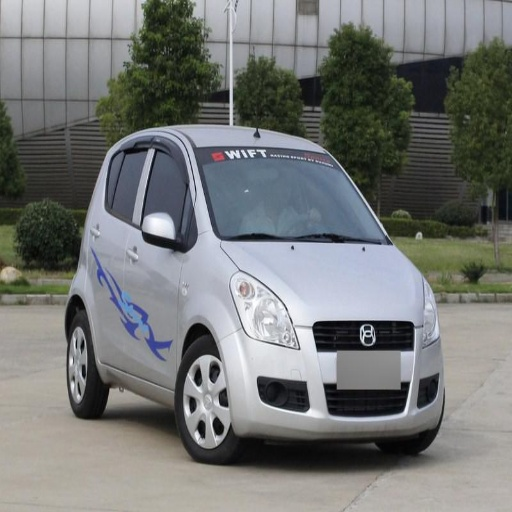front_bumper: (221, 322, 440, 437)
front_right_door: (121, 137, 196, 384)
front_right_light: (232, 274, 298, 349)
hood: (221, 240, 424, 324)
